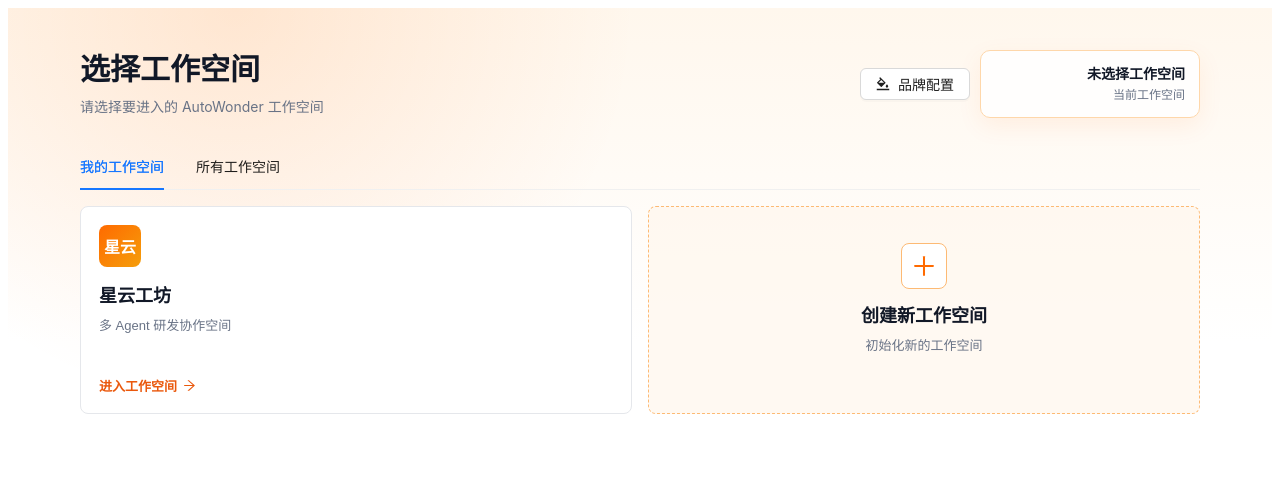
Scenario: WorkspaceSelectPage › does not fetch all workspaces until the discovery tab is opened
Expected: the text "星云工坊" is shown, left=99, top=286, right=171, bottom=306
Click the tab "所有工作空间". click: coordinates (238, 167)
box: left=196, top=156, right=280, bottom=178
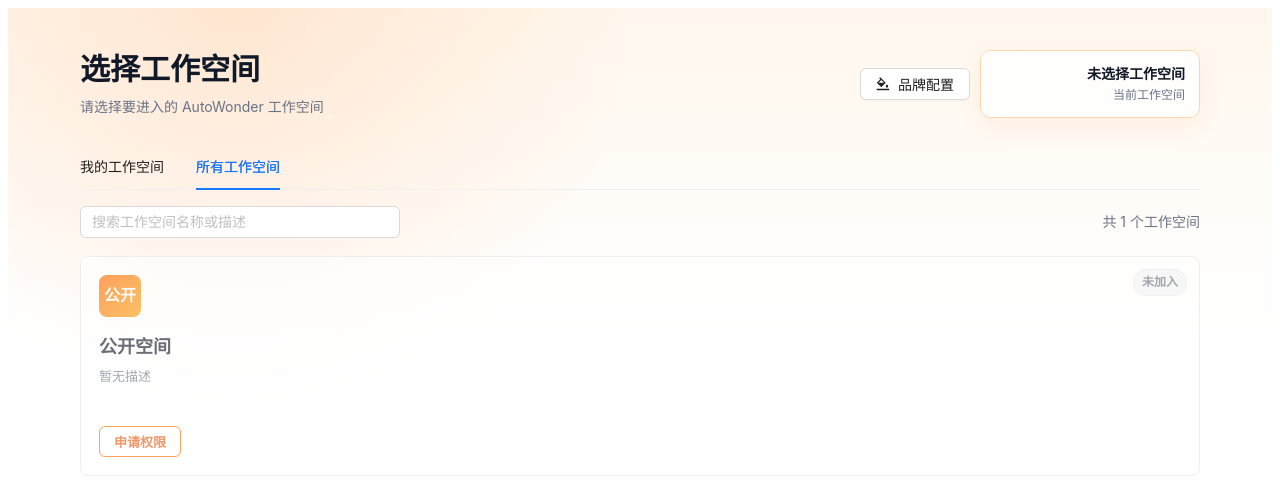
Expected: the text "共 1 个工作空间" is shown, left=1102, top=211, right=1200, bottom=233
